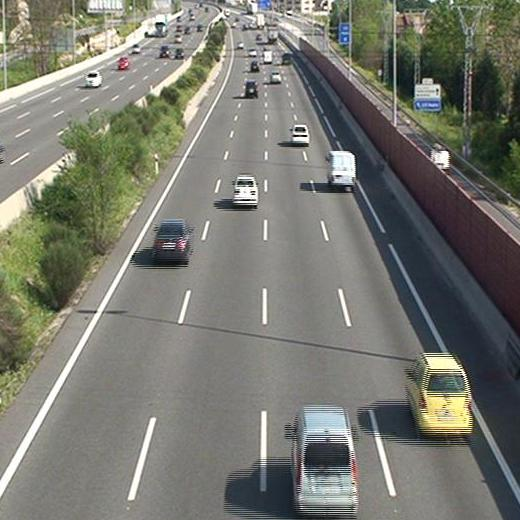car: (405, 356, 474, 435), (154, 221, 192, 261), (232, 175, 258, 206), (291, 125, 309, 144), (245, 80, 258, 96), (269, 71, 282, 82), (281, 53, 292, 64), (250, 61, 258, 71), (247, 48, 255, 56)
van: (287, 408, 358, 511), (327, 151, 355, 187), (263, 50, 274, 63)
